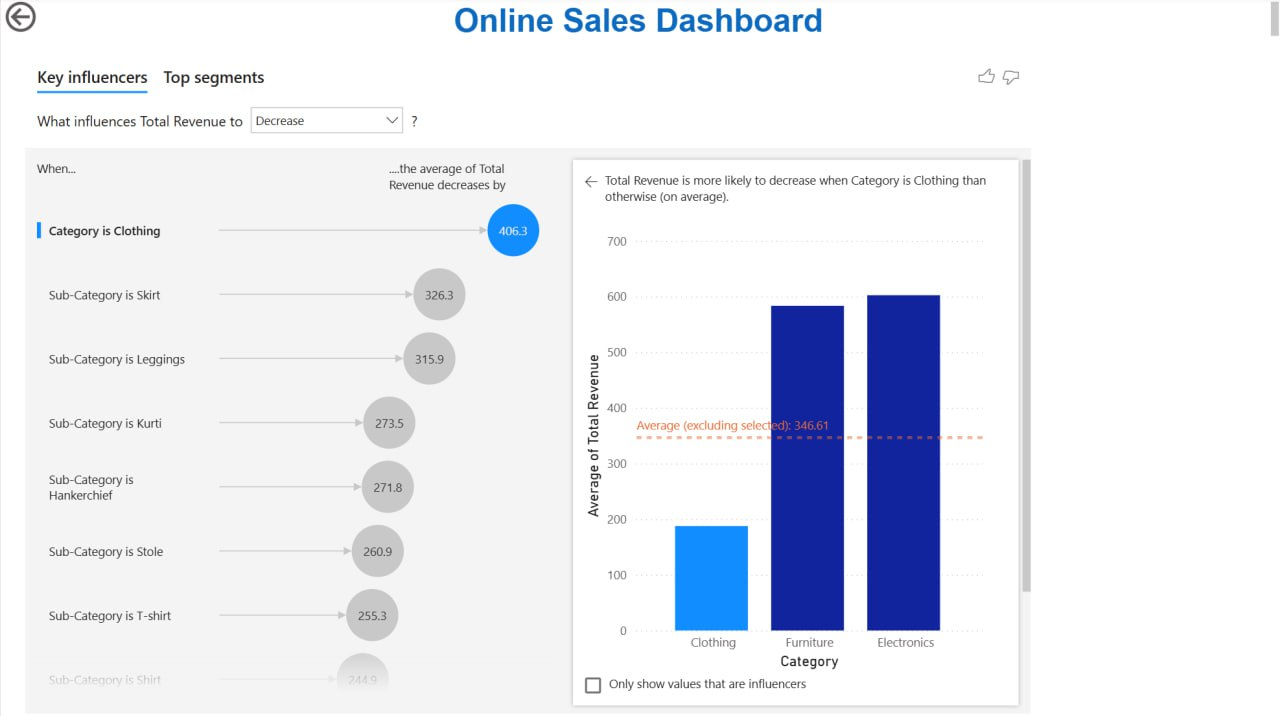

What the dashboard file says about the page in this screenshot:
{"tool":"powerbi","page":{"name":"Key Influencer","canvas":[1280,720],"ordinal":2},"visuals":[{"type":"keyDriversVisual","fields":{"ExplainBy":["Details.Category","Details.Sub-Category","Sum(Details.Quantity)","Details.Order ID","Orders.City","Orders.Order Date","Orders.State"],"Target":["Details.Total Revenue"]},"box":[19.7,56.1,1013.1,664.3],"z":0},{"type":"textbox","box":[0,0,1280,45.4],"z":1000},{"type":"actionButton","box":[0,0,100,40],"z":2000}]}

Visuals, with their boxes on the page's 1280x720 design canvas (x1, y1, x2, y2). These are canvas units, not pixel positions in the 1280x716 screenshot, which may show the page scaled, cropped or inside an application window:
keyDriversVisual - Details.Category x Details.Sub-Category: 20:56:1033:720
textbox: 0:0:1280:45
actionButton: 0:0:100:40
